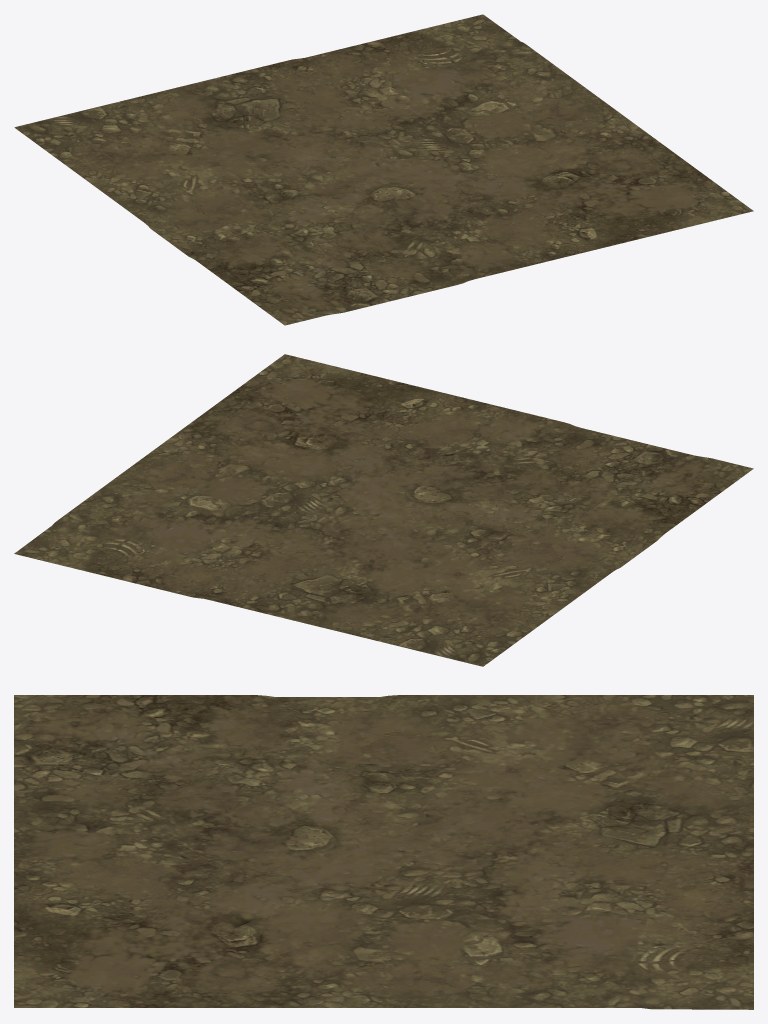
File: model_stage_swamp01_rw.FBX
3 views of the same model, one above another, from view 1: azimuth 30°, elevation 25°; view 2: azimuth 150°, elevation 25°; view 3: azimuth 270°, elevation 25° (orthographic). The views are drawn at different scales.
Parts seen in each view (by area): view 1: model_stage_swamp01; view 2: model_stage_swamp01; view 3: model_stage_swamp01.
Part boxes in pixels (x1,y1,x2,y2): model_stage_swamp01: (14, 14, 753, 325); model_stage_swamp01: (14, 354, 753, 666); model_stage_swamp01: (14, 695, 753, 1009).
Bounding box in the file's own units: 100 × 0.2991 × 100.
